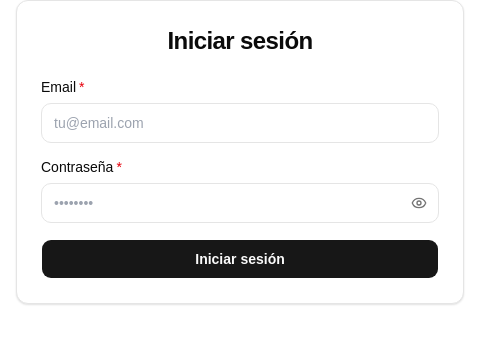
Test: an invalid email is reported on blur and cleared once fixed
The width and height of the screenshot is (481, 344).
Type "hola@" into the field labelled "Email*" at (240, 123), box 41,103 -> 439,143
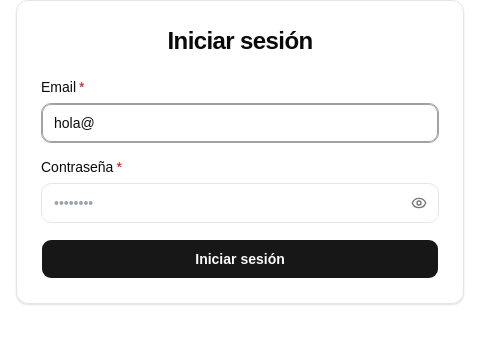
Press Tab
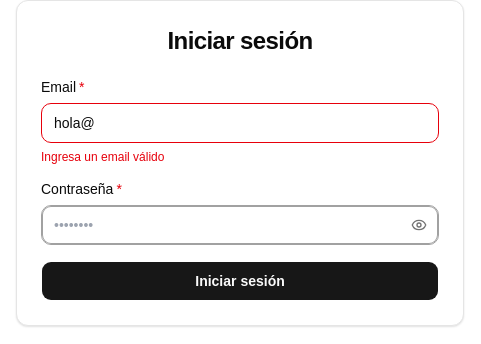
Expected: the text "Ingresa un email válido" is shown, 41,150 -> 164,164
Type "empresa.com" into the field labelled "Email*" at (240, 123), box 41,103 -> 439,143
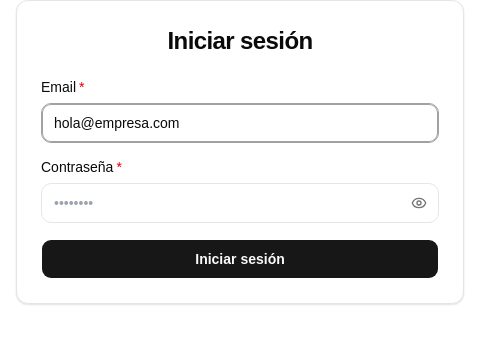
Expected: the text "Ingresa un email válido" is gone
